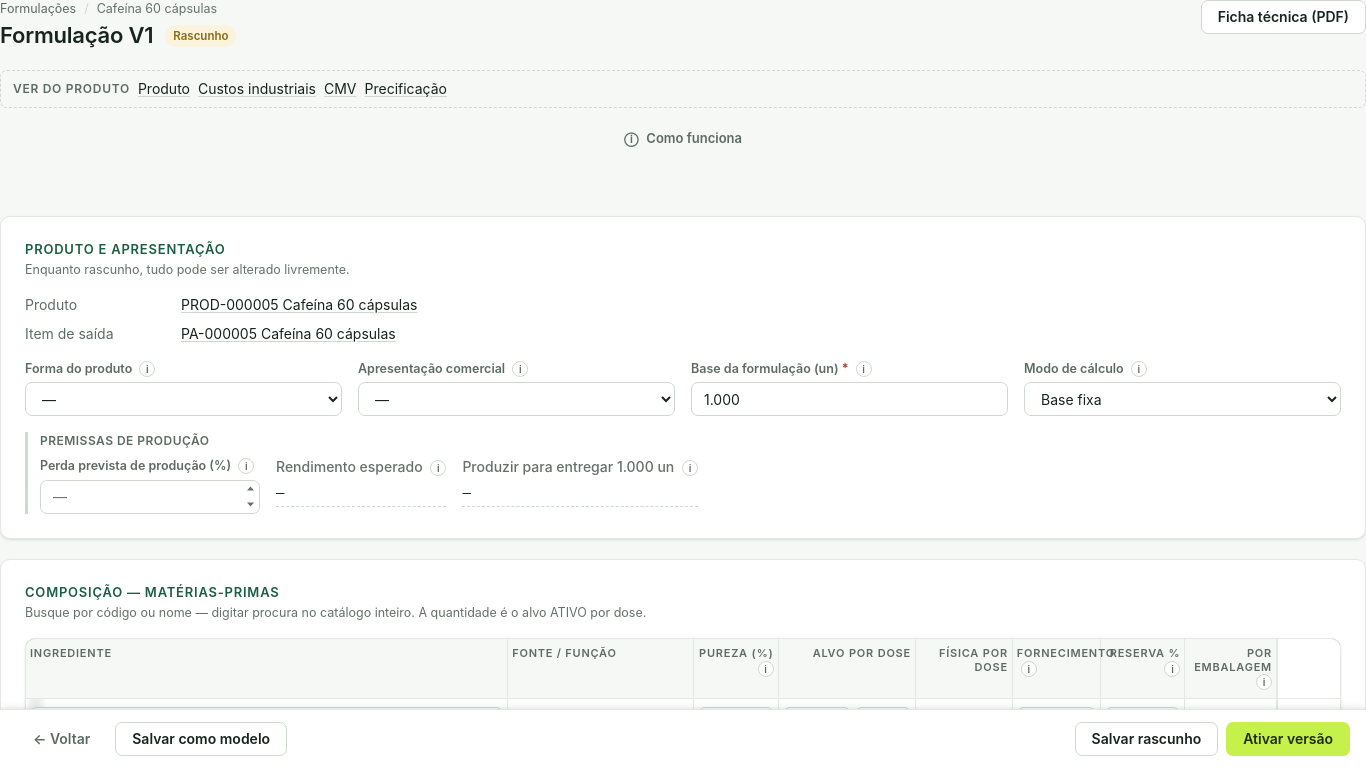
Test: Ativar versão com alteração pendente › B · gravação recusada por validação não ativa nada
Expected: the link "PROD-000005 Cafeína 60 cápsulas" is shown, [181, 296, 417, 313]
Replace the text in the field labelled "Base da formulação (un) * i" with "0": point(850, 399) [691, 382, 1008, 416]
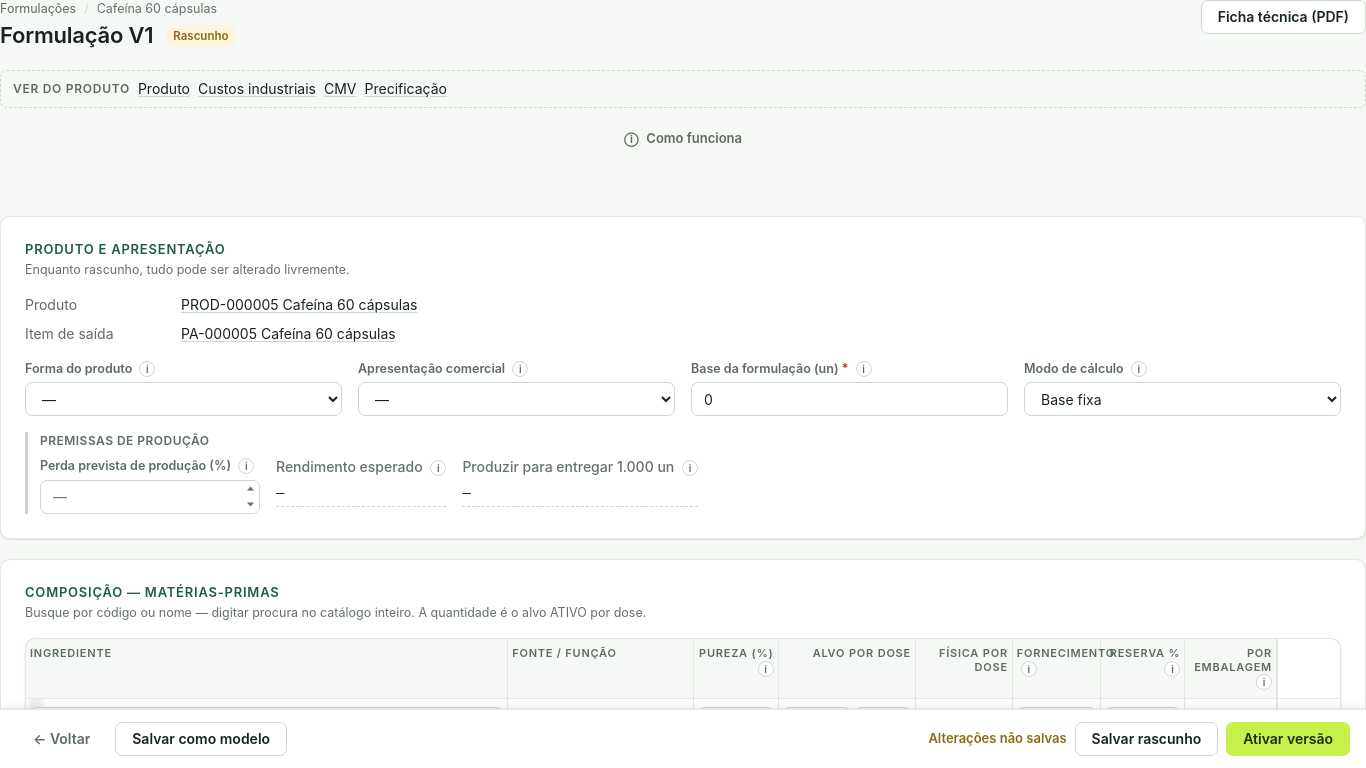
Click the button "Ativar versão": point(1288, 739) [1226, 722, 1350, 756]
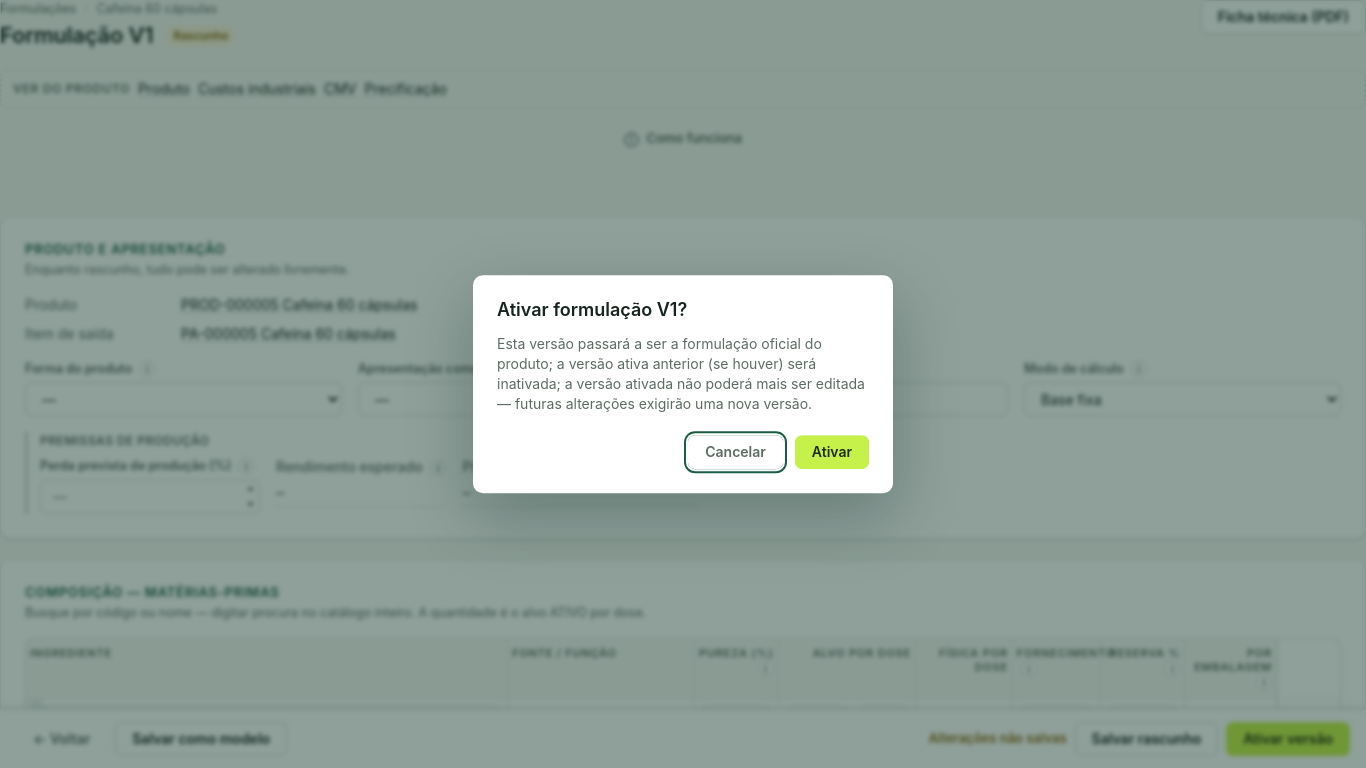
Now the dialog is shown, box [473, 275, 893, 493]
Click the button "Ativar": point(832, 452) [795, 435, 869, 469]
(page scrolled)
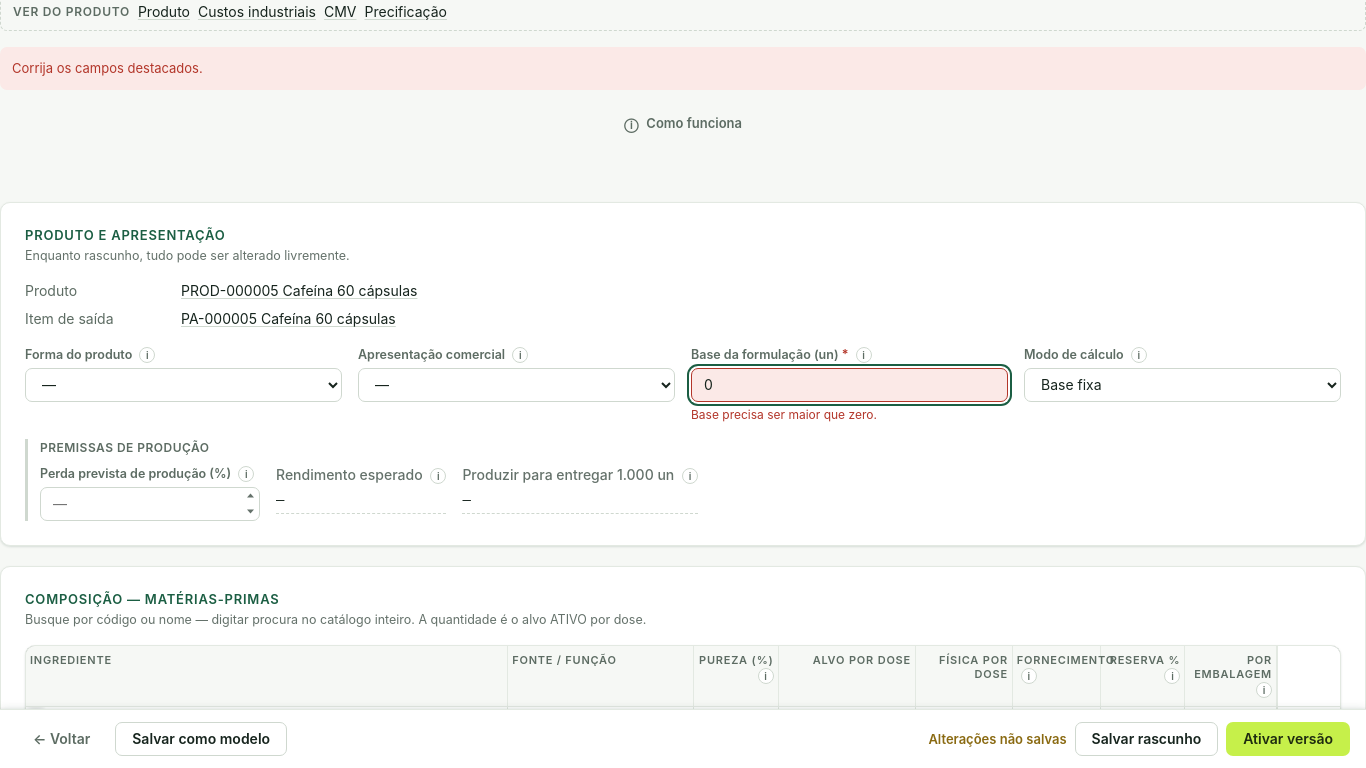
Now the text "Corrija os campos destacados." is shown, box [0, 47, 1365, 90]
Now the text "Base precisa ser maior que zero." is shown, box [691, 407, 877, 422]
